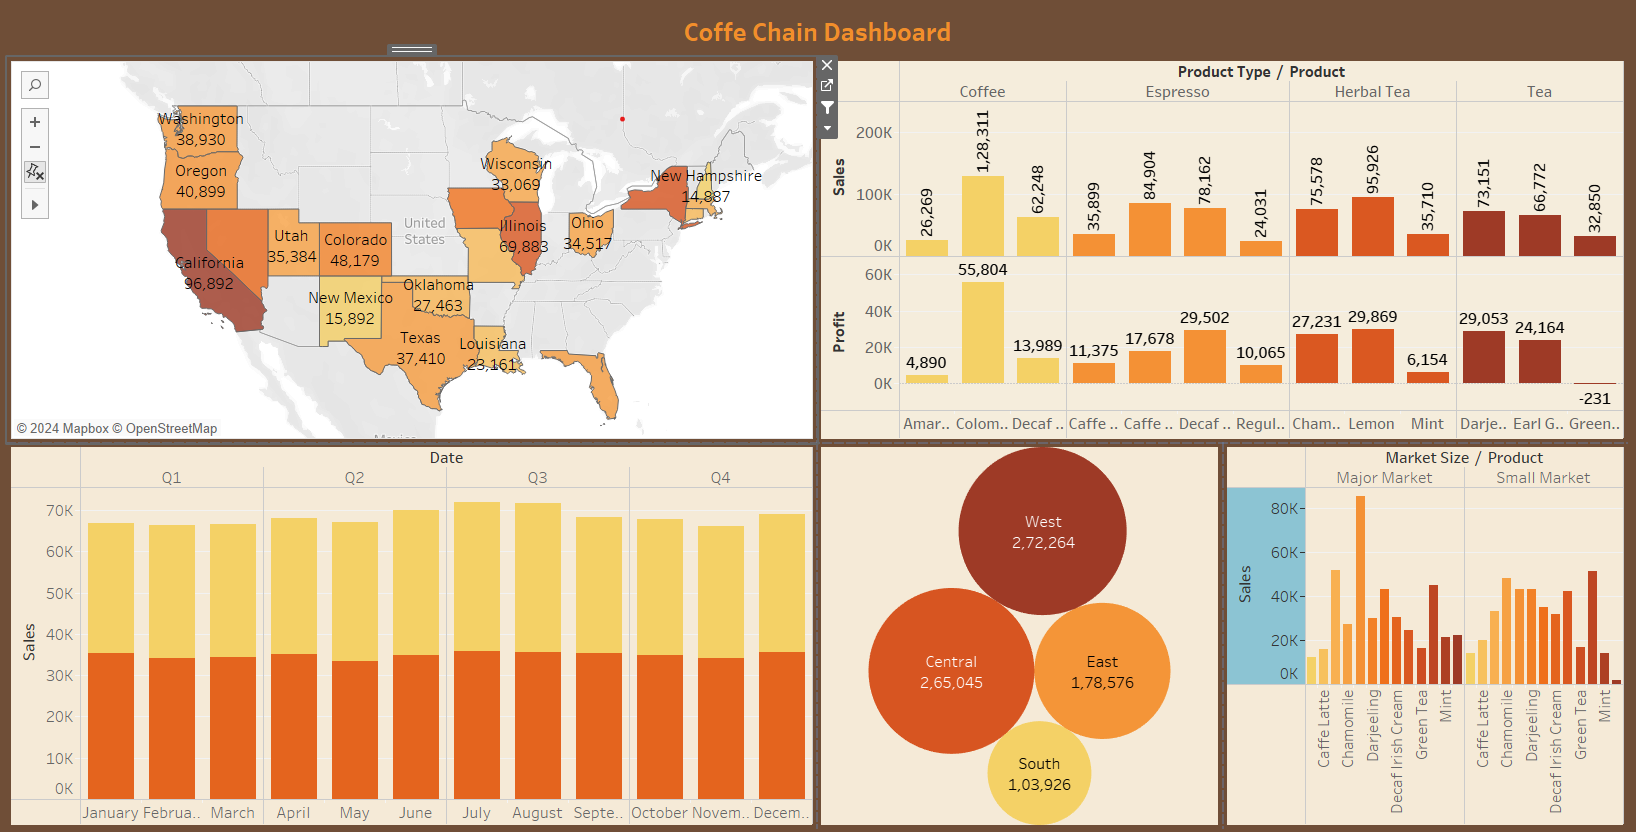

Layout of this report page (visuals, bound fields, positions):
{"tool":"tableau","page":{"name":"Dashboard 1","canvas":[1000,1000],"units":"permille","ordinal":0},"visuals":[{"type":"text","box":[4.9,9.5,990.2,63]},{"type":"worksheet","title":"State-Sales Distribution","mark":"Automatic","box":[4.9,72.5,495.1,458.4]},{"type":"worksheet","title":"Product Distribution","mark":"Automatic","rows":["Sales","Profit"],"cols":["Product Type","Product"],"box":[500,72.5,495.1,458.4]},{"type":"worksheet","title":"Seasonal Fluctuations","mark":"Bar","rows":["Sales"],"cols":["Date","Date"],"box":[4.9,531,495.1,459.5]},{"type":"worksheet","title":"Market-Sales Distribution","mark":"Circle","box":[500,531,247.6,459.5]},{"type":"worksheet","title":"Market Size","mark":"Automatic","rows":["Sales"],"cols":["Market Size","Product"],"box":[747.5,531,247.6,459.5]}]}

Visuals, with their boxes on the dashboard's canvas, which has no fixed pixel size, in thousandths of its width and height (x1, y1, x2, y2). These are canvas units, not pixel positions in the 1636x832 screenshot, which may show the page scaled, cropped or inside an application window:
text: rect(5, 10, 995, 72)
"State-Sales Distribution" worksheet: rect(5, 72, 500, 531)
"Product Distribution" worksheet: rect(500, 72, 995, 531)
"Seasonal Fluctuations" worksheet (Bar marks): rect(5, 531, 500, 990)
"Market-Sales Distribution" worksheet (Circle marks): rect(500, 531, 748, 990)
"Market Size" worksheet: rect(748, 531, 995, 990)
